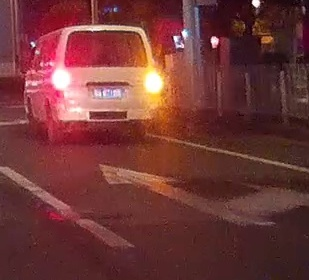L_light: (51, 69, 70, 98)
R_light: (143, 70, 162, 98)
T_light: (96, 30, 117, 35)
night-right: (50, 25, 163, 145)
